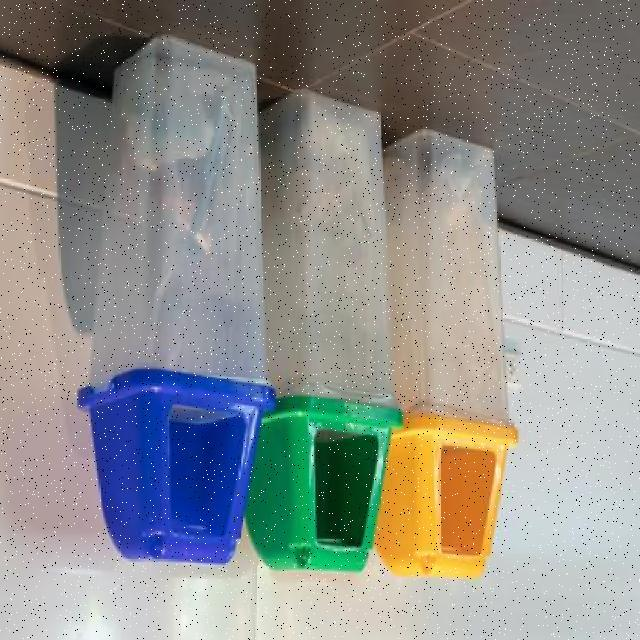garbage container: (72, 25, 280, 581), (241, 81, 409, 587), (374, 121, 525, 595)
